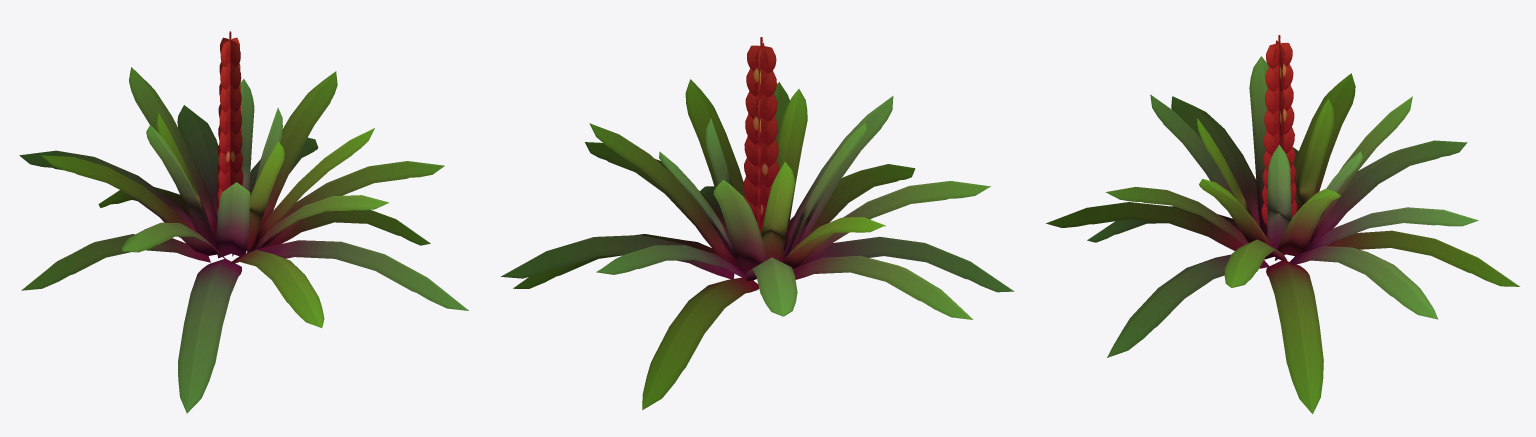
File: bromelia.glb
The picture shows the model from 3 angles, left to right: view 1: azimuth 30°, elevation 25°; view 2: azimuth 150°, elevation 25°; view 3: azimuth 270°, elevation 25°; orthographic projection. The views are drawn at different scales.
Visible parts, largest first — view 1: bromelia; view 2: bromelia; view 3: bromelia.
Boxes of the visible parts, <box> form: bromelia: <box>19,31,468,413</box>; bromelia: <box>501,37,1014,409</box>; bromelia: <box>1046,35,1519,413</box>.
Bounding box in the file's own units: 1.17 × 0.7749 × 1.16.
1 material, 1 textured.
